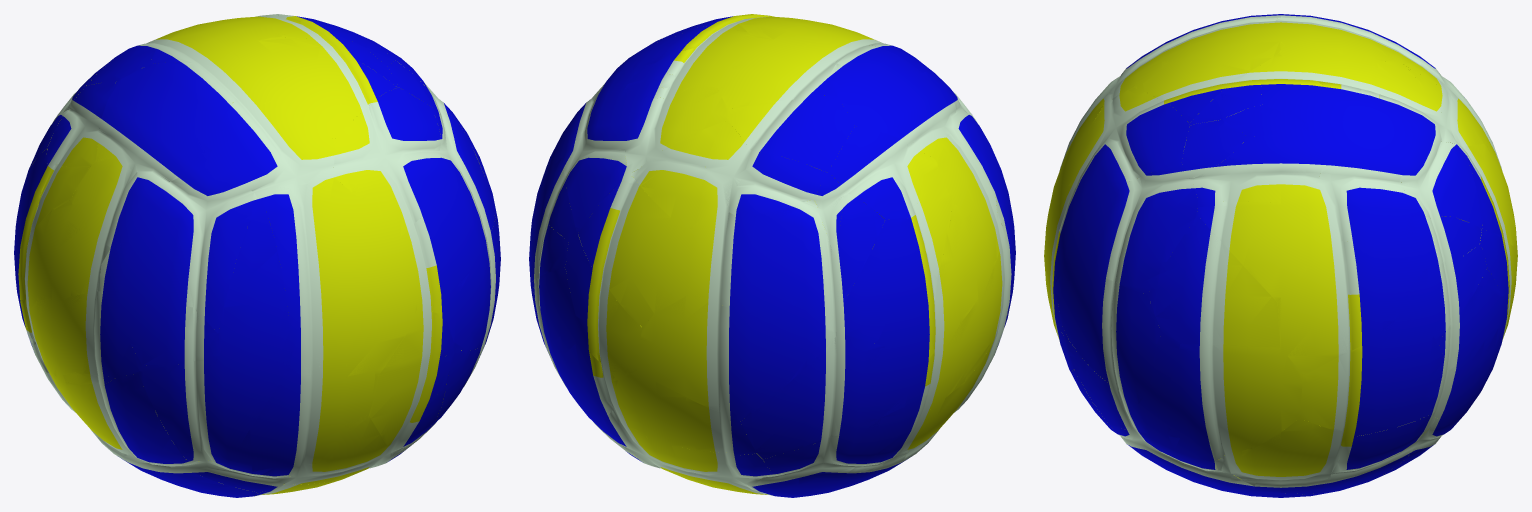
The model's file is voleyboltopublueyellowkırılan.fbx.
3 renders of one model, left to right at view 1: azimuth 30°, elevation 25°; view 2: azimuth 150°, elevation 25°; view 3: azimuth 270°, elevation 25°, orthographic.
Visible parts, largest first — view 1: Cube, Cube_cell.056, Cube_cell.050, Cube_cell.048, Cube_cell.032, Cube_cell.029, Cube_cell.027, Cube_cell.058, Cube_cell.060, Cube_cell.020, Cube_cell.022, Cube_cell.024 (+21 smaller); view 2: Cube, Cube_cell.086, Cube_cell.080, Cube_cell.050, Cube_cell.091, Cube_cell.031, Cube_cell.078, Cube_cell.041, Cube_cell.068, Cube_cell.036, Cube_cell.027, Cube_cell.066 (+24 smaller); view 3: Cube, Cube_cell.069, Cube_cell.090, Cube_cell.034, Cube_cell.089, Cube_cell.077, Cube_cell.054, Cube_cell.001, Cube_cell.092, Cube_cell.013, Cube_cell.024, Cube_cell.043 (+22 smaller).
Boxes of the visible parts, left/top/right/bottom form: Cube: left=14, top=16, right=500, bottom=497; Cube_cell.056: left=261, top=178, right=416, bottom=376; Cube_cell.050: left=96, top=62, right=236, bottom=182; Cube_cell.048: left=218, top=196, right=290, bottom=374; Cube_cell.032: left=333, top=88, right=444, bottom=237; Cube_cell.029: left=240, top=375, right=378, bottom=476; Cube_cell.027: left=20, top=291, right=141, bottom=377; Cube_cell.058: left=138, top=359, right=278, bottom=462; Cube_cell.060: left=369, top=354, right=452, bottom=455; Cube_cell.020: left=71, top=163, right=159, bottom=262; Cube_cell.022: left=18, top=200, right=100, bottom=299; Cube_cell.024: left=230, top=37, right=396, bottom=139; Cube: left=529, top=14, right=1015, bottom=497; Cube_cell.086: left=637, top=296, right=836, bottom=421; Cube_cell.080: left=578, top=176, right=683, bottom=327; Cube_cell.050: left=835, top=45, right=957, bottom=159; Cube_cell.091: left=727, top=95, right=854, bottom=172; Cube_cell.031: left=829, top=126, right=937, bottom=219; Cube_cell.078: left=720, top=40, right=837, bottom=109; Cube_cell.041: left=565, top=234, right=642, bottom=376; Cube_cell.068: left=741, top=334, right=929, bottom=458; Cube_cell.036: left=843, top=219, right=936, bottom=342; Cube_cell.027: left=926, top=236, right=1015, bottom=406; Cube_cell.066: left=753, top=200, right=843, bottom=330; Cube: left=1046, top=14, right=1517, bottom=497; Cube_cell.069: left=1148, top=216, right=1279, bottom=346; Cube_cell.090: left=1278, top=241, right=1408, bottom=374; Cube_cell.034: left=1215, top=418, right=1354, bottom=494; Cube_cell.089: left=1197, top=201, right=1312, bottom=302; Cube_cell.077: left=1300, top=324, right=1444, bottom=436; Cube_cell.054: left=1093, top=162, right=1197, bottom=294; Cube_cell.001: left=1401, top=137, right=1481, bottom=228; Cube_cell.092: left=1192, top=134, right=1322, bottom=202; Cube_cell.013: left=1179, top=343, right=1302, bottom=460; Cube_cell.024: left=1133, top=41, right=1280, bottom=123; Cube_cell.043: left=1410, top=243, right=1486, bottom=340.
Size of the model in its own units: 68.79 by 68.79 by 68.79.
